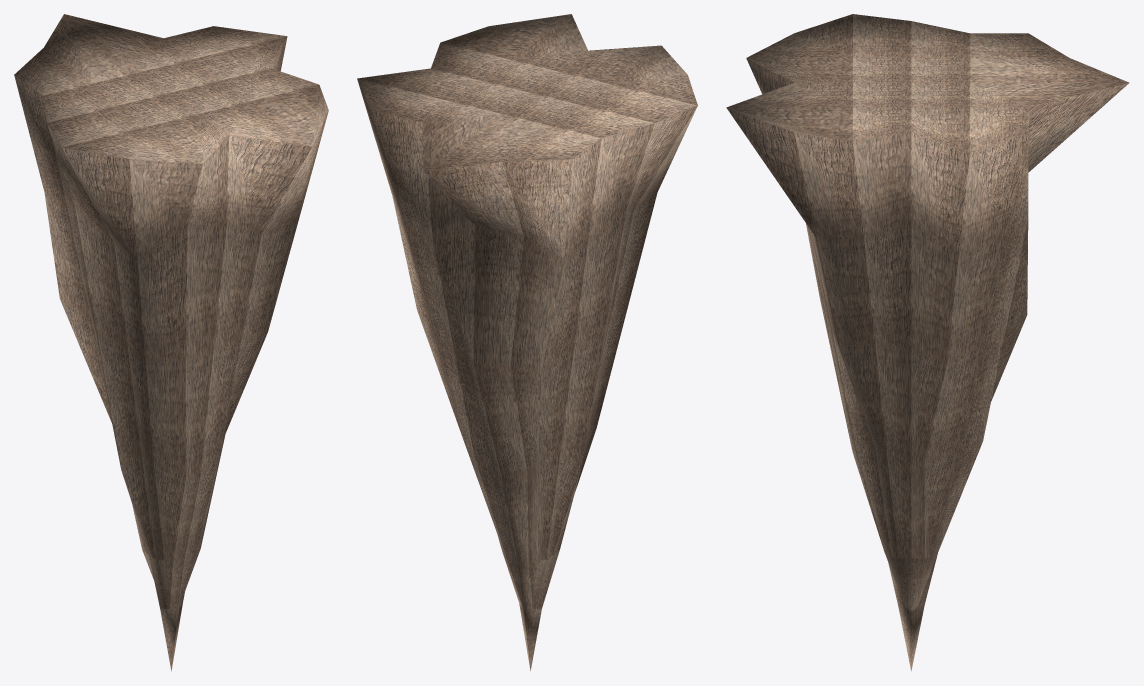
File: stalactite.fbx
3 renders of one model, left to right at view 1: azimuth 30°, elevation 25°; view 2: azimuth 150°, elevation 25°; view 3: azimuth 270°, elevation 25°, orthographic.
Visible parts, largest first — view 1: Cube; view 2: Cube; view 3: Cube.
Part boxes in pixels (x1,y1,x2,y2): Cube: [14, 14, 328, 671]; Cube: [357, 14, 697, 670]; Cube: [726, 14, 1129, 670].
Size of the model in its own units: 284 by 555 by 344.
Materials: 1 (1 with a texture image).
